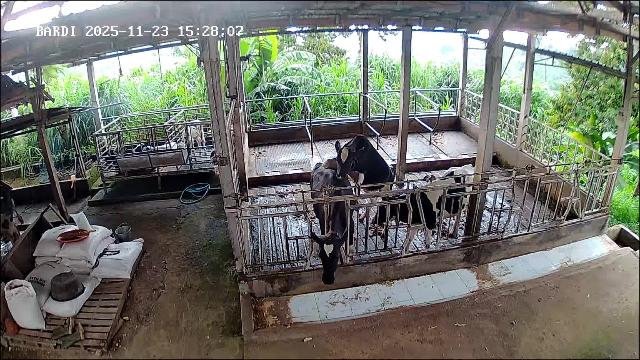mounting: (322, 136, 396, 223)
